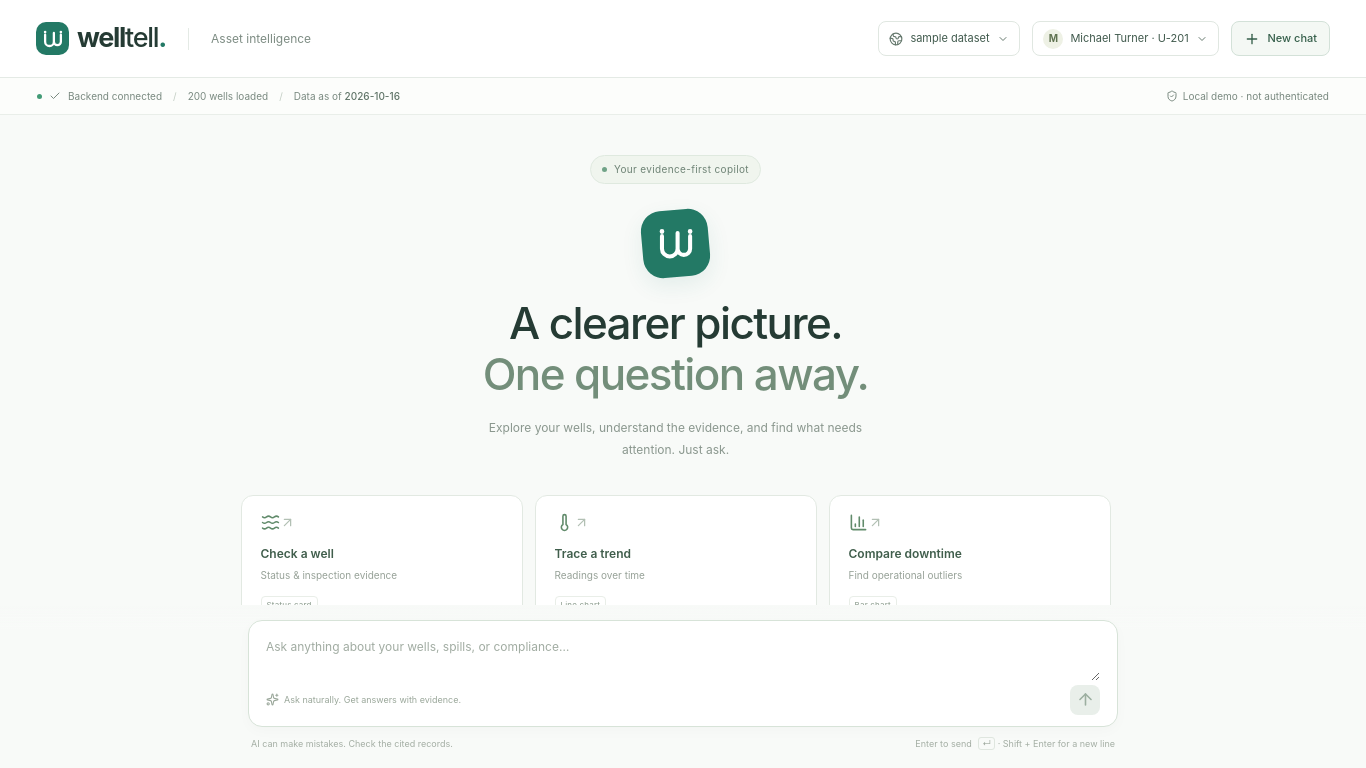
Scenario: handles an uncertain network failure without replaying a turn
Type "Network outcome unknown" into the text box named "Ask about your assets" at (683, 658), box 266,636 -> 1100,680
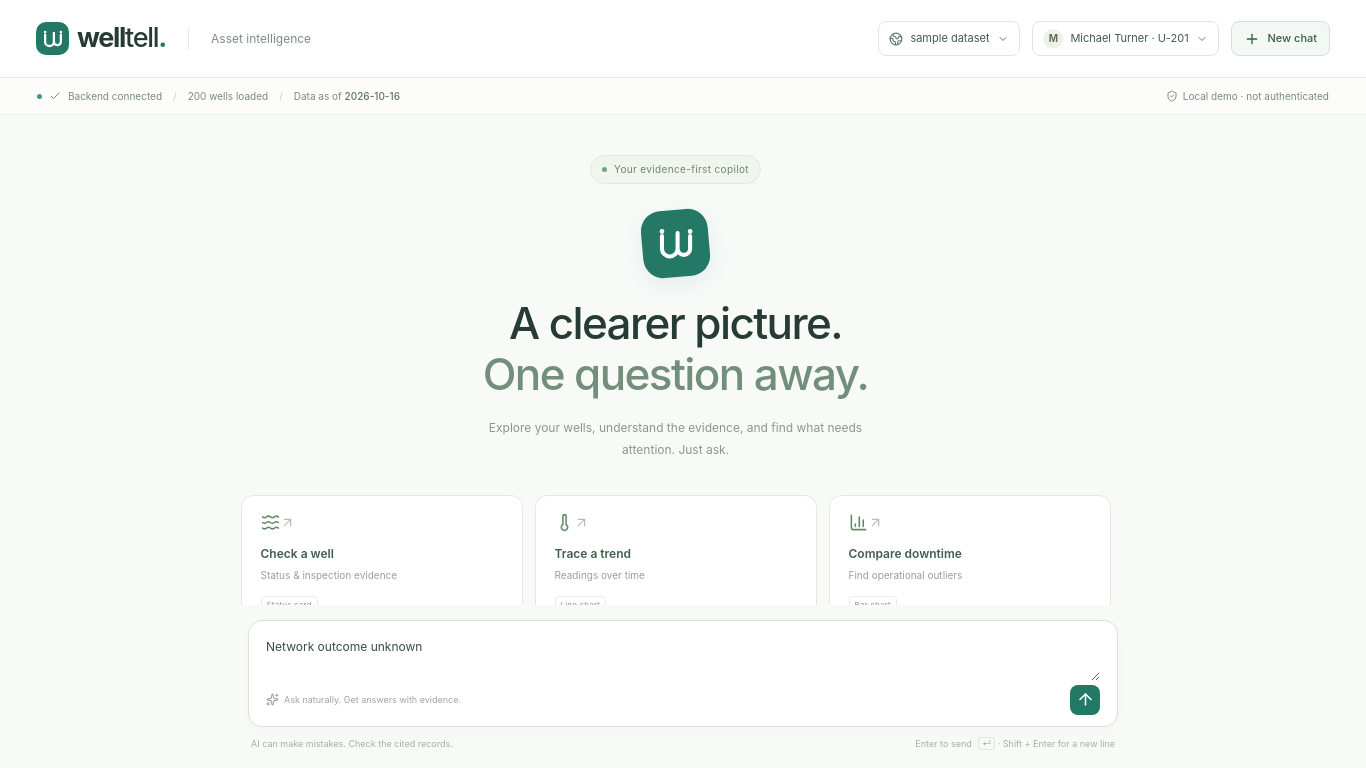
Click the button named "Send question" at (1085, 700), box 1070,684 -> 1100,714
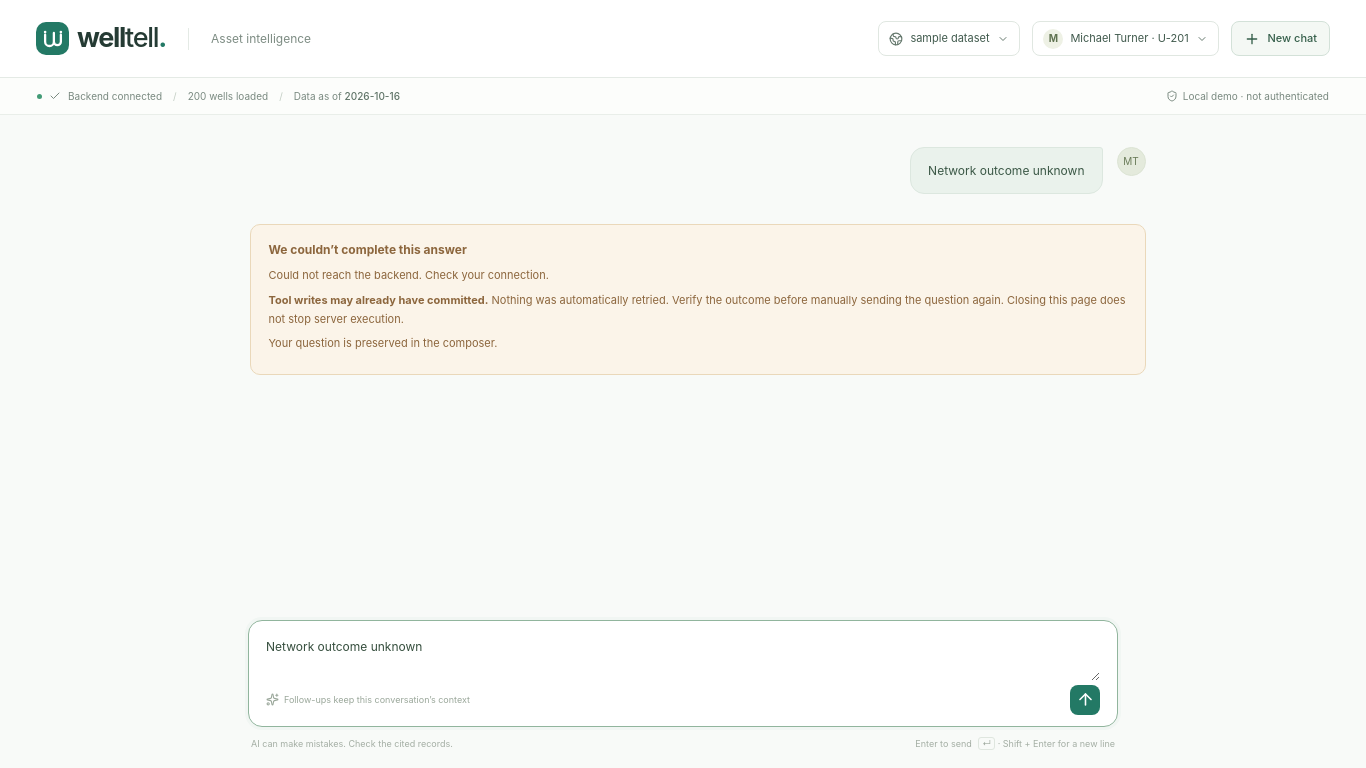
Expected: the message shows "Nothing was automatically retried", 268,293 -> 1126,326
